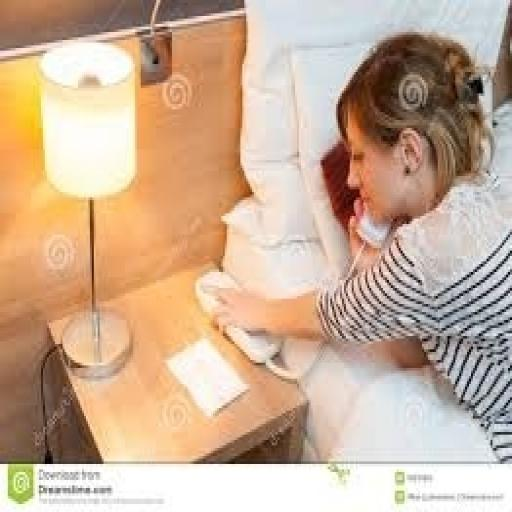calling: (197, 30, 510, 462)
